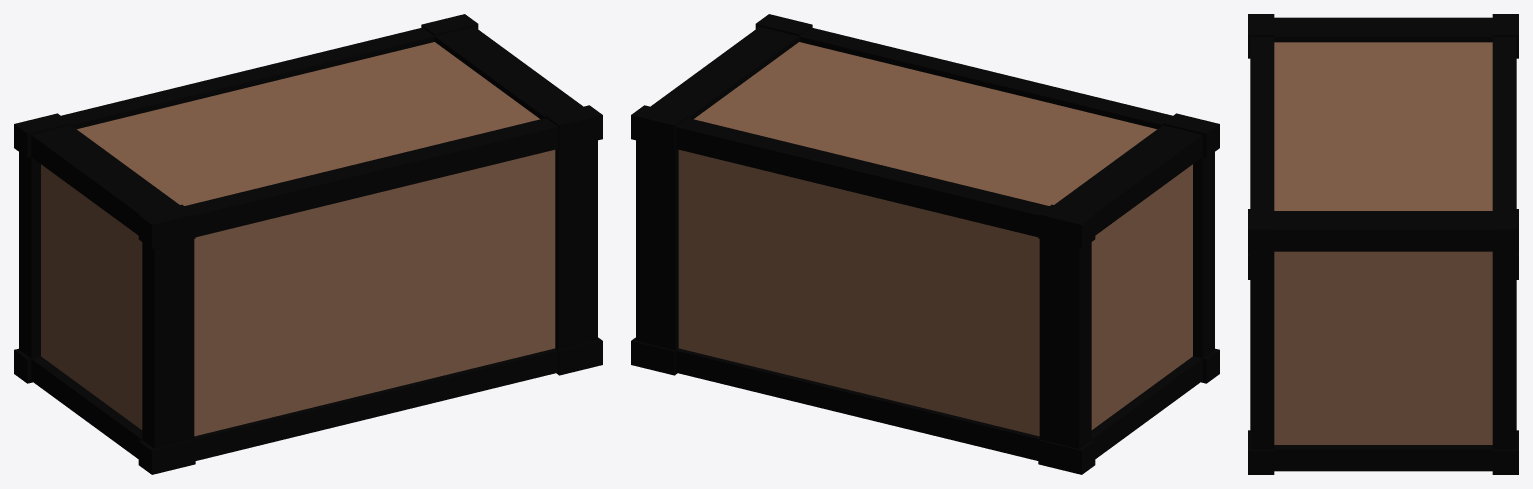
The model's file is chest_better.fbx.
3 views of the same model, side by side, from view 1: azimuth 30°, elevation 25°; view 2: azimuth 150°, elevation 25°; view 3: azimuth 270°, elevation 25° (orthographic).
Parts seen in each view (by area): view 1: chest; view 2: chest; view 3: chest.
Part boxes in pixels (<box>): chest: <box>14,14,602,474</box>; chest: <box>631,14,1219,474</box>; chest: <box>1248,14,1518,474</box>.
Bounding box in the file's own units: 9.1 × 4.82 × 4.82.
